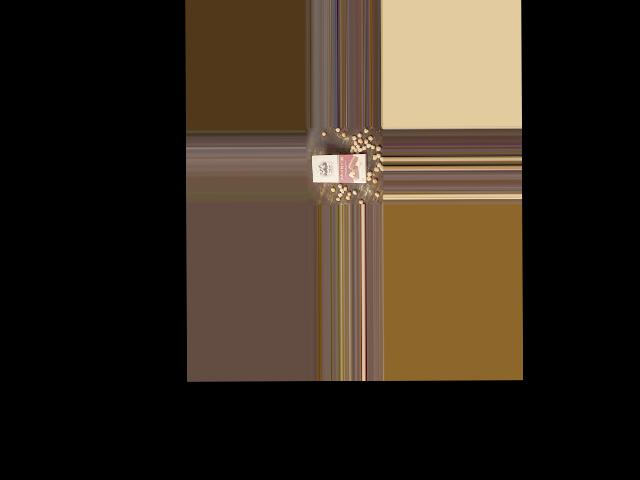chocolate: (310, 151, 367, 184)
